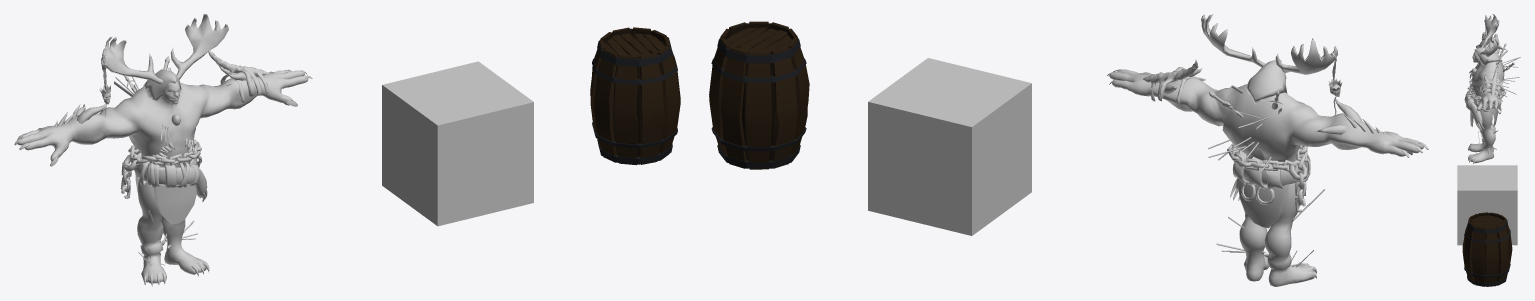
The picture shows the model from 3 angles, left to right: view 1: azimuth 30°, elevation 25°; view 2: azimuth 150°, elevation 25°; view 3: azimuth 270°, elevation 25°; orthographic projection. The views are drawn at different scales.
Parts seen in each view (by area): view 1: MAW, Cube.001_Cube.006, Barrel_Cylinder.002; view 2: Cube.001_Cube.006, MAW, Barrel_Cylinder.002; view 3: MAW, Cube.001_Cube.006, Barrel_Cylinder.002.
Part boxes in pixels (<box>): MAW: <box>14,14,312,286</box>; Cube.001_Cube.006: <box>382,61,533,226</box>; Barrel_Cylinder.002: <box>590,27,680,165</box>; Cube.001_Cube.006: <box>868,58,1031,235</box>; MAW: <box>1107,14,1428,286</box>; Barrel_Cylinder.002: <box>709,21,809,169</box>; MAW: <box>1464,14,1520,163</box>; Cube.001_Cube.006: <box>1457,165,1517,245</box>; Barrel_Cylinder.002: <box>1462,212,1512,286</box>.
Size of the model in its own units: 6.82 by 2.38 by 1.05.
